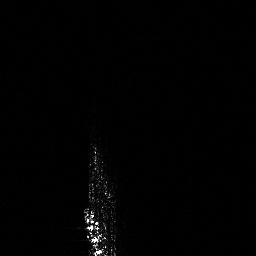ship: (83, 140, 119, 256)
